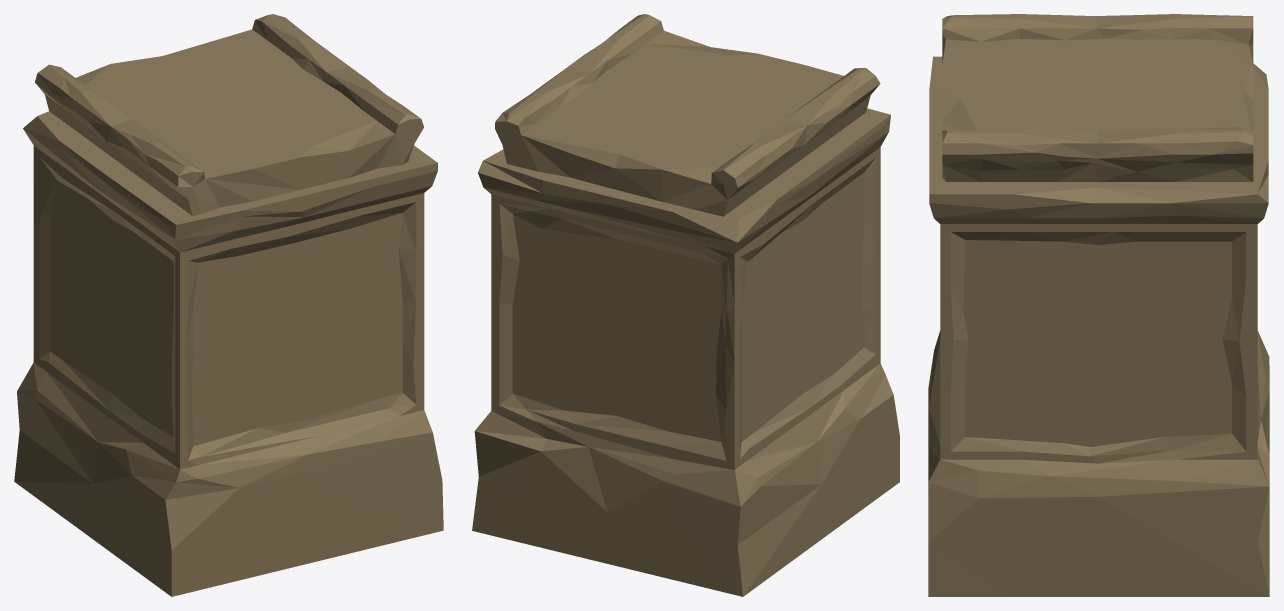
The model's file is Altare_1.fbx.
3 renders of one model, left to right at view 1: azimuth 30°, elevation 25°; view 2: azimuth 150°, elevation 25°; view 3: azimuth 270°, elevation 25°, orthographic. The views are drawn at different scales.
Visible parts, largest first — view 1: Altare_1_1_low, Altare_1_2_low; view 2: Altare_1_1_low, Altare_1_2_low; view 3: Altare_1_1_low, Altare_1_2_low.
Part boxes in pixels (x1,y1,x2,y2): Altare_1_1_low: (14, 111, 443, 596); Altare_1_2_low: (35, 14, 423, 215); Altare_1_1_low: (472, 108, 899, 596); Altare_1_2_low: (495, 14, 880, 216); Altare_1_1_low: (928, 56, 1269, 596); Altare_1_2_low: (942, 14, 1253, 181).
Size of the model in its own units: 1 by 1.46 by 1.
